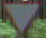Give way: (3, 1, 44, 37)
